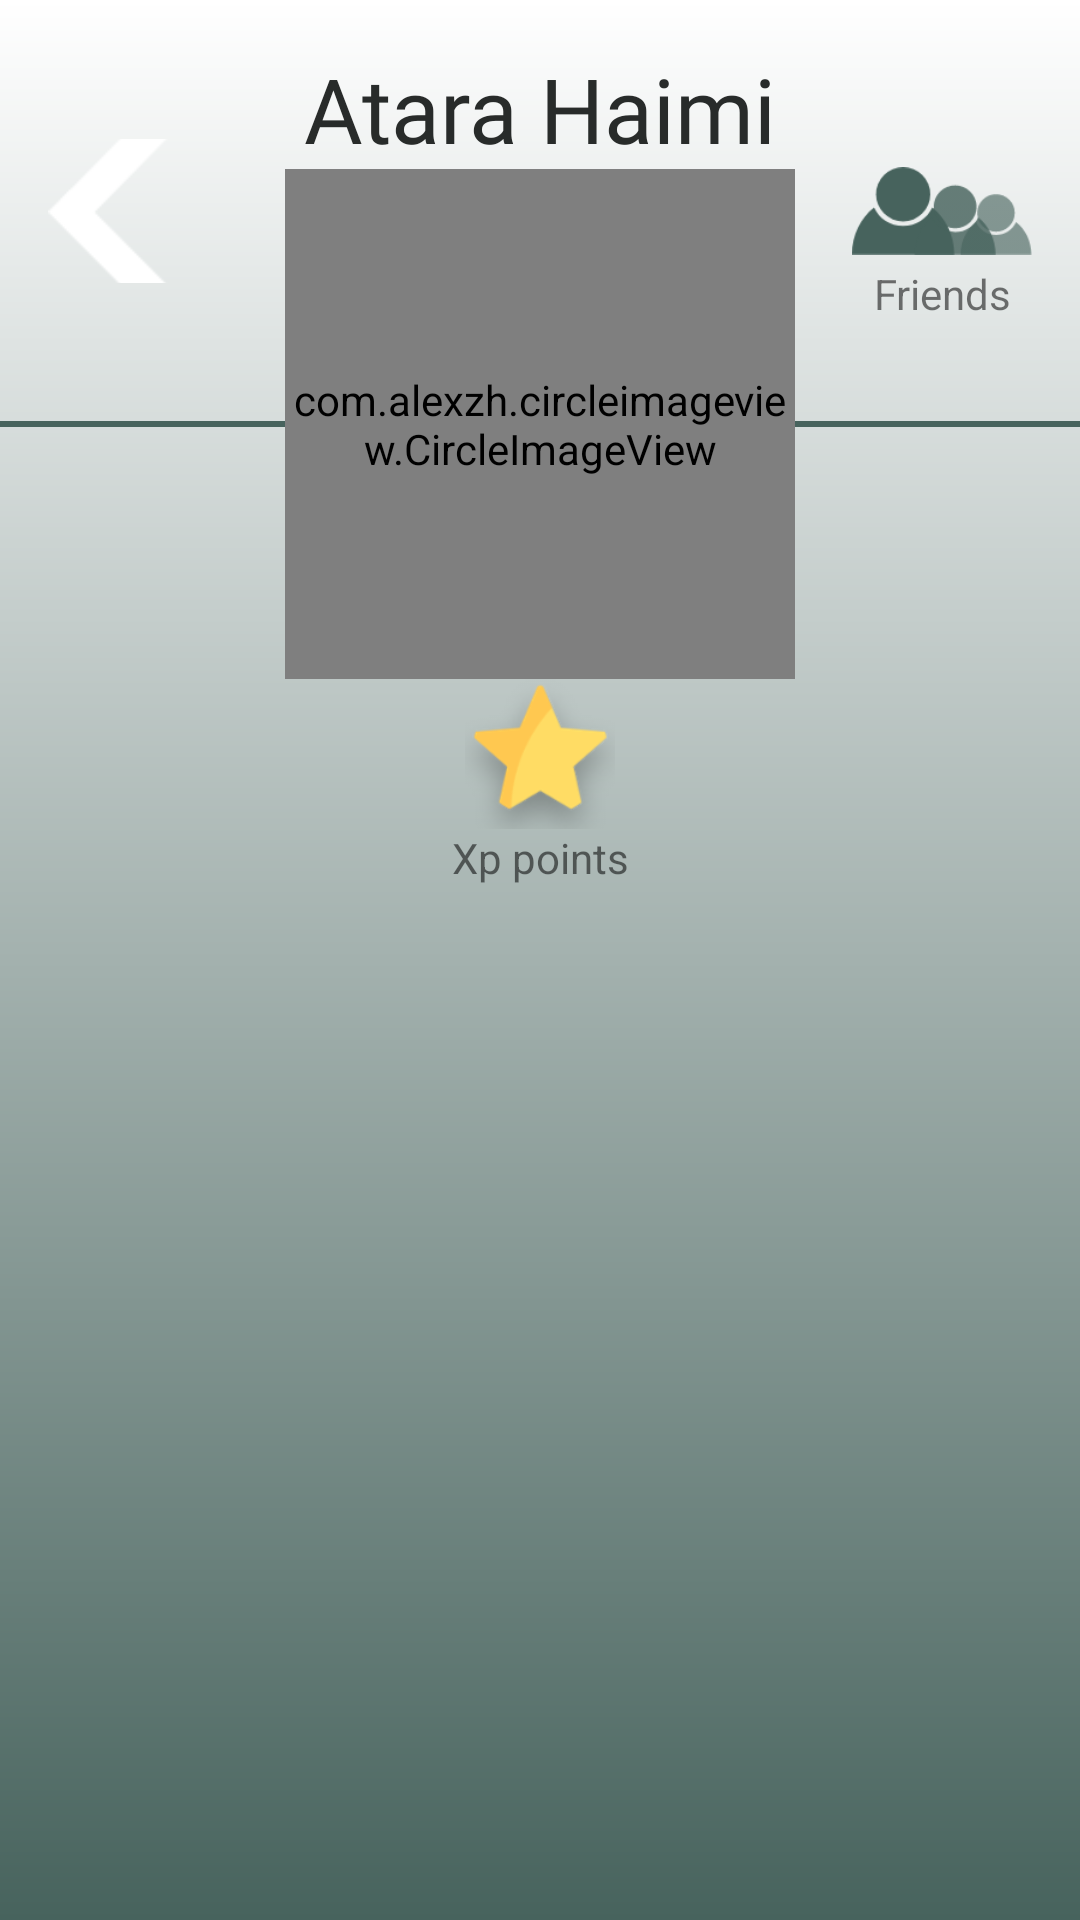

Icons on this 1080px x 1920px Android screen, each with the point to tap as (x,y):
star: (540,751)
